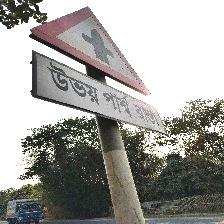Crossroad: (30, 3, 178, 137)
